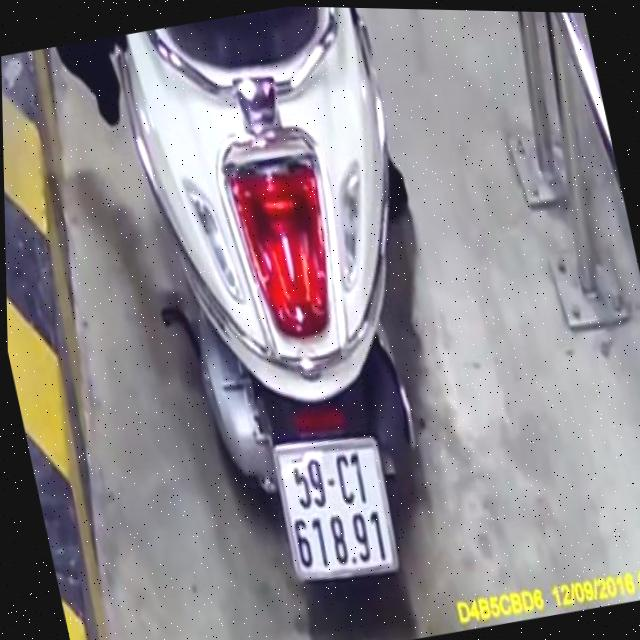motorcycle: (92, 2, 505, 640)
plate: (261, 423, 412, 595)
